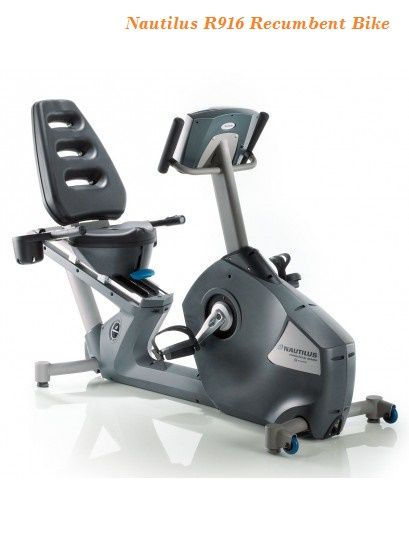gym_bike: (25, 93, 401, 457)
